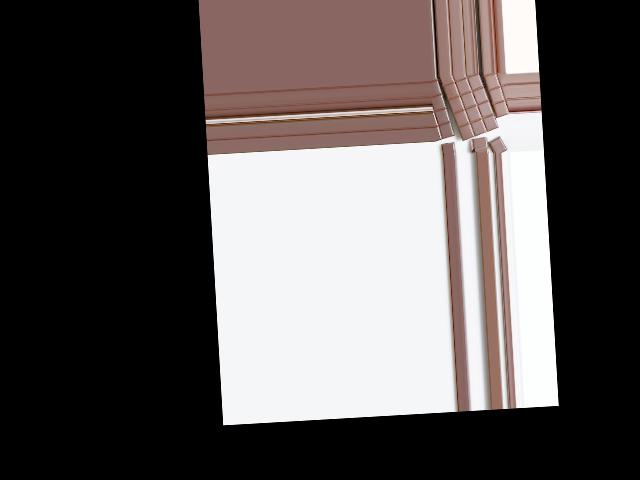chocolate: (441, 72, 500, 140)
